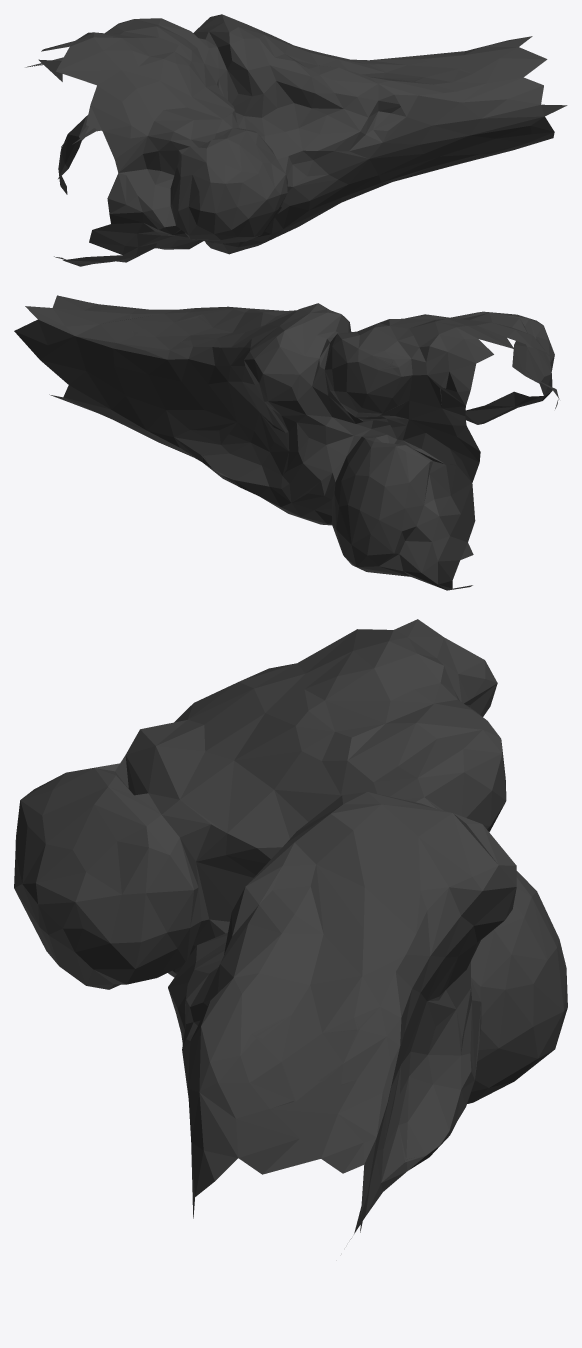
Rendered from island-prop.glb.
3 views of the same model, one above another, from view 1: azimuth 30°, elevation 25°; view 2: azimuth 150°, elevation 25°; view 3: azimuth 270°, elevation 25° (orthographic). The views are drawn at different scales.
Parts seen in each view (by area): view 1: woolly-mammoth-150k.obj; view 2: woolly-mammoth-150k.obj; view 3: woolly-mammoth-150k.obj.
Part boxes in pixels (x1,y1,x2,y2): woolly-mammoth-150k.obj: [25, 14, 567, 266]; woolly-mammoth-150k.obj: [14, 295, 559, 590]; woolly-mammoth-150k.obj: [14, 619, 567, 1239].
Size of the model in its own units: 0.5478 by 0.2484 by 0.3087.
1 material, 1 textured.
